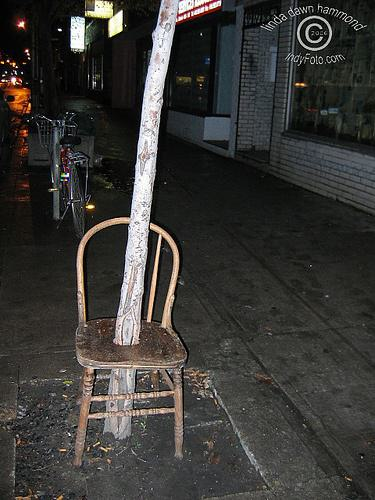car: (36, 114, 94, 240)
chair: (74, 217, 191, 462)
